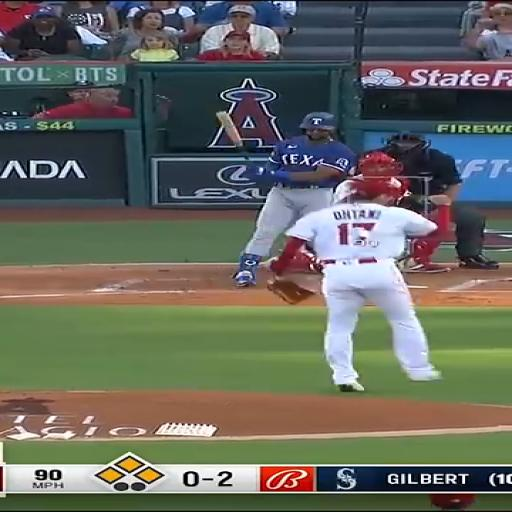bat: (217, 112, 253, 163)
